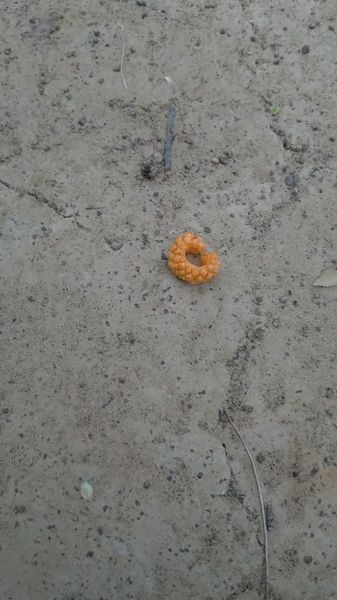eggs: (164, 225, 231, 284)
